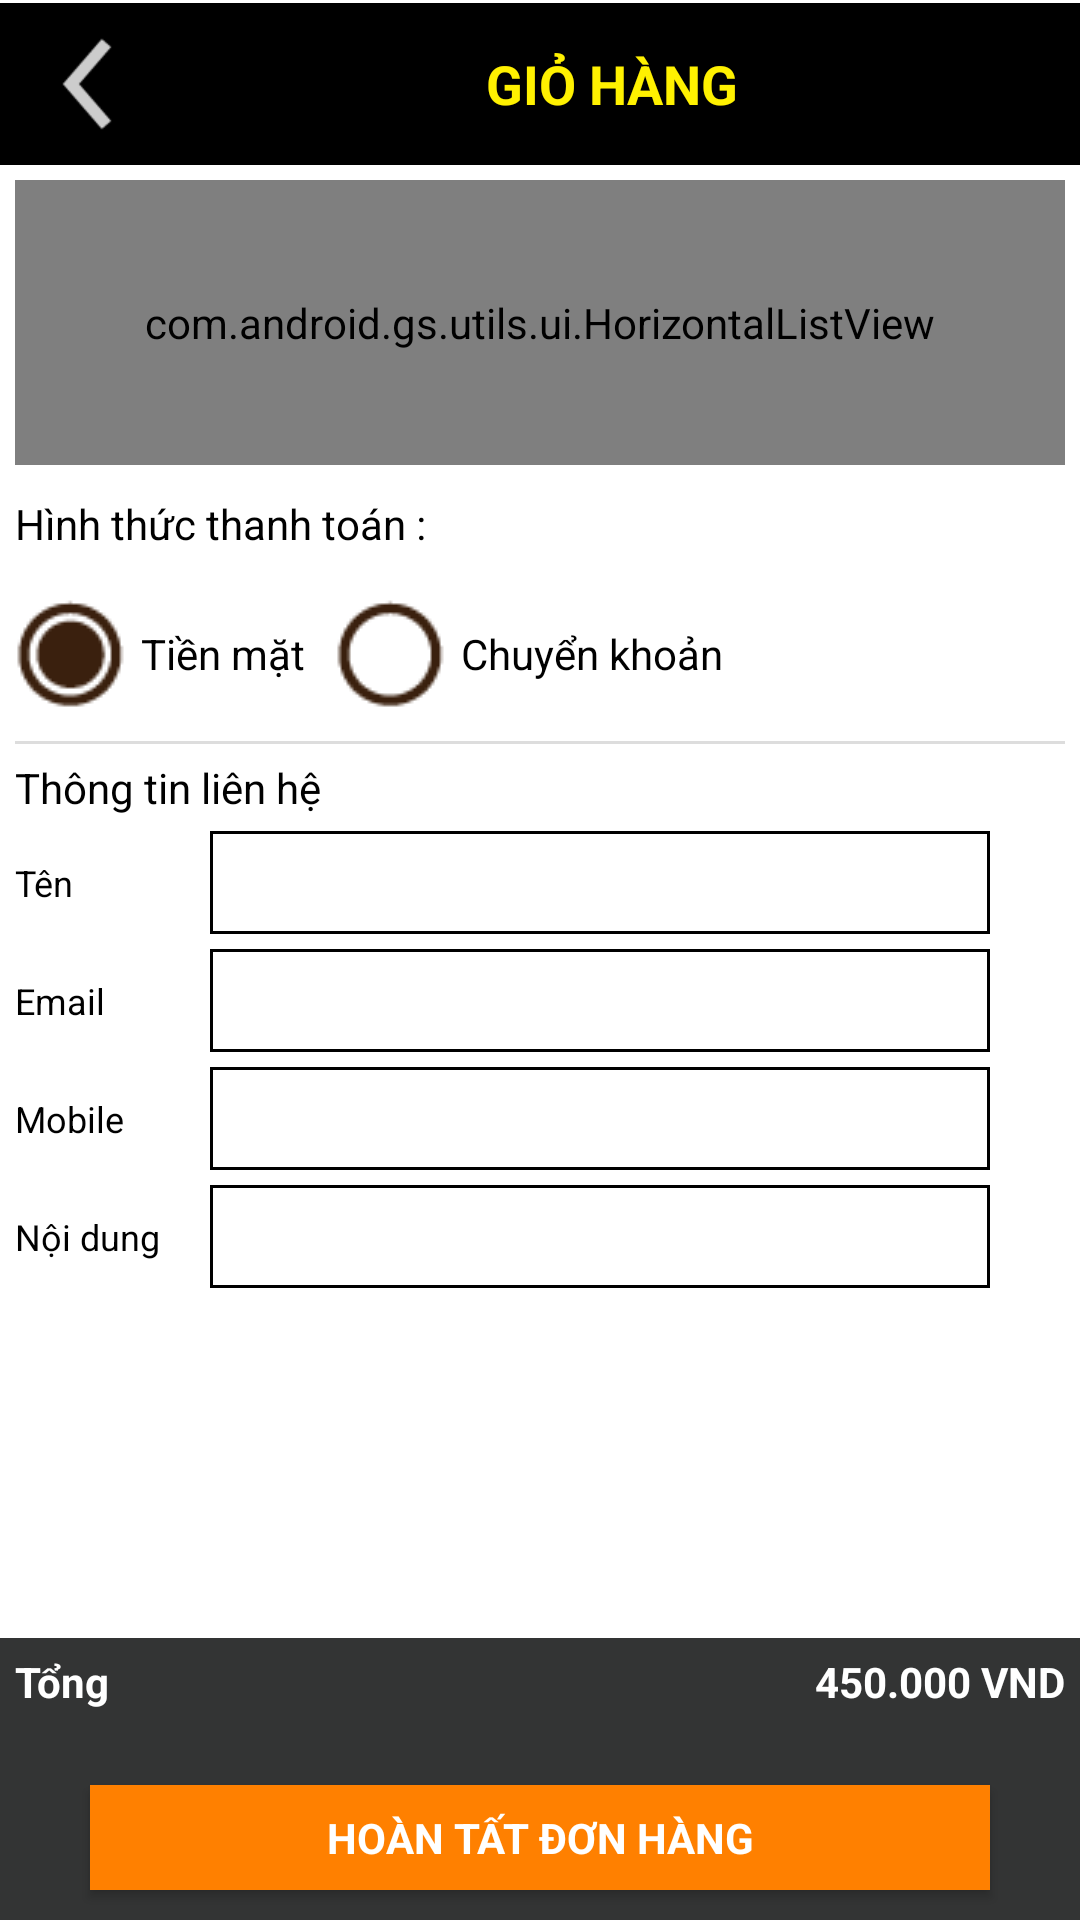

Icon click points for this 1080px x 1920px phone screenshot, format [x,y]:
back: [87,84]
